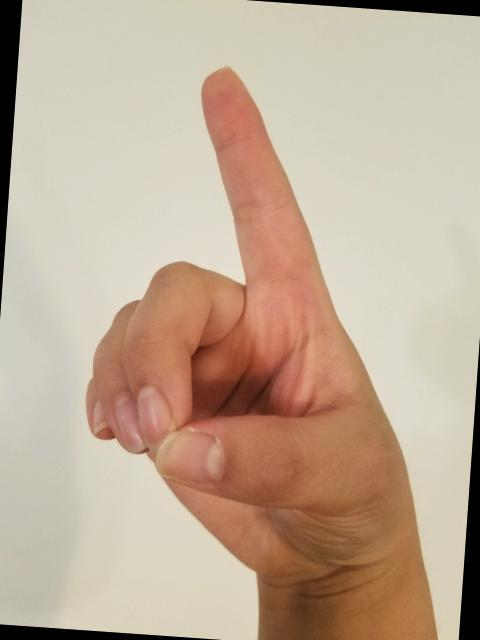D: (65, 50, 464, 600)
